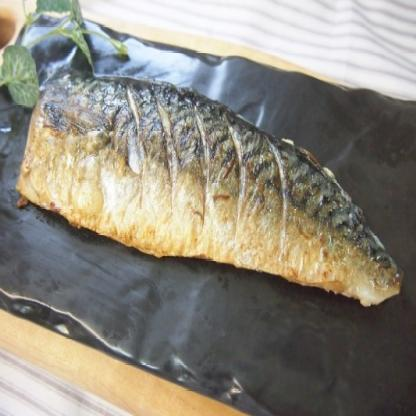Peixe: (14, 60, 414, 332)
